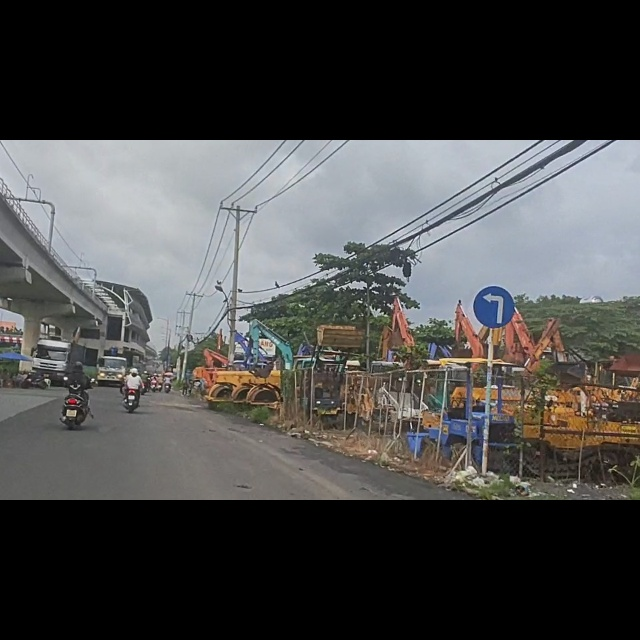bien_hieu_lenh: (473, 260, 515, 339)
